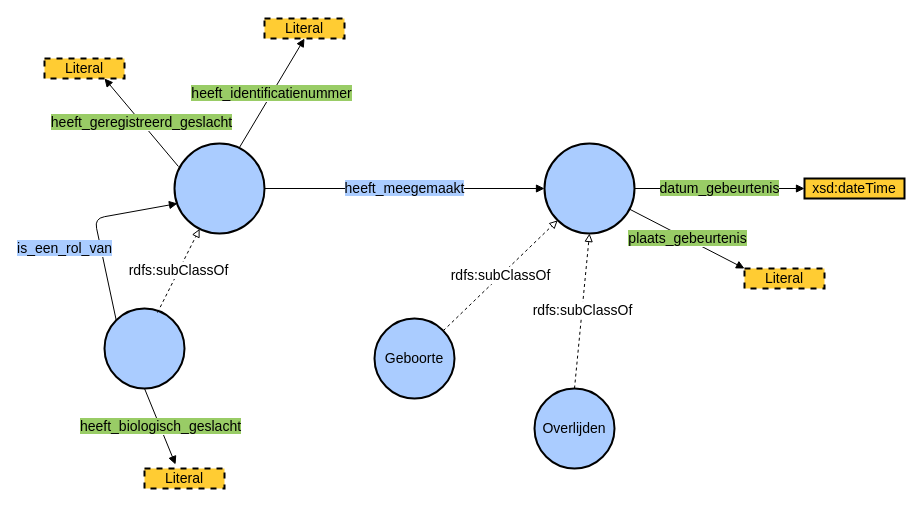
Image size: 923x506. Some labels were removed from this diagram. Each missing label, with the centre of its shape:
"Levens-gebeurtenis" goes at [589,188].
"Natuurlijk Persoon" goes at [219,188].
"Patiënt" goes at [144,348].
